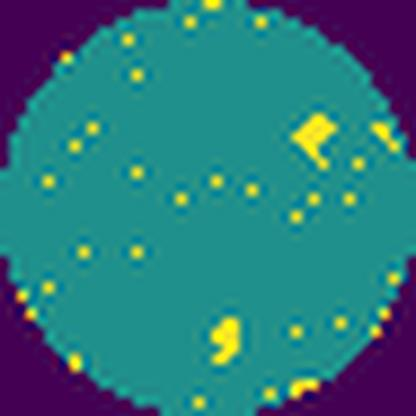Edge-Loc: (290, 108, 339, 170), (210, 313, 244, 365)
